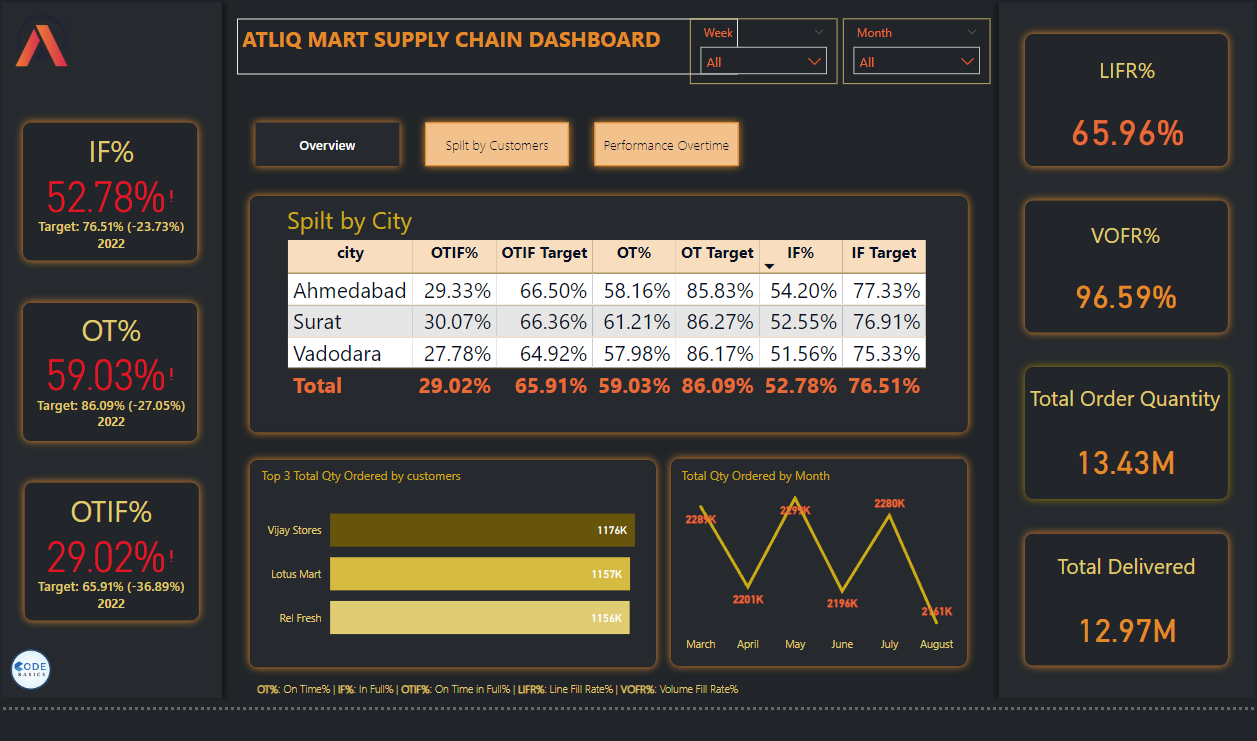

The dashboard page shown, as its layout file describes it:
{"tool":"powerbi","page":{"name":"Overview","canvas":[1280,720],"ordinal":0},"visuals":[{"type":"shape","box":[1004.6,0,275,720],"z":0},{"type":"shape","box":[0,0,238.8,720],"z":1000},{"type":"shape","box":[1032.4,537.7,220.7,149.5],"z":2000},{"type":"shape","box":[1031.2,369.6,220.7,149.5],"z":3000},{"type":"shape","box":[1031.2,201.6,220.7,149.5],"z":4000},{"type":"shape","box":[1032.4,33.6,220.7,149.5],"z":5000},{"type":"shape","box":[22.9,486,191.8,155.6],"z":6000},{"type":"shape","box":[21.8,304.3,191.8,156],"z":7000},{"type":"shape","box":[21.7,123,191.8,155.6],"z":8000},{"type":"shape","box":[249.6,463.1,425.7,225.5],"z":9000},{"type":"shape","box":[675.4,461.9,314.8,225.5],"z":10000},{"type":"shape","box":[249.6,196.6,740.5,254.5],"z":11000},{"type":"textbox","box":[244.8,25.3,505.3,56.7],"z":12000},{"type":"card","title":"LIFR%","fields":{"Values":["fact_order_lines.LIFR%"]},"box":[1043.2,61.5,197.8,121.8],"z":13000},{"type":"card","title":"VOFR%","fields":{"Values":["fact_order_lines.VOFR%"]},"box":[1042,229.1,197.8,121.8],"z":14000},{"type":"card","title":"Total Order Quantity","fields":{"Values":["fact_order_lines.Total Qty Ordered"]},"box":[1039.6,393.2,202.6,125.4],"z":15000},{"type":"card","title":"Total Delivered","fields":{"Values":["fact_order_lines.Total Qty Shipped"]},"box":[1040.8,563.2,202.6,125.4],"z":16000},{"type":"kpi","title":"IF%","fields":{"Indicator":["fact_orders_aggregate.IF%"],"Goal":["Avg(dim_targets_orders.IF Target)"],"TrendLine":["dim_date.date.Variation.Date Hierarchy.Year"]},"box":[27.7,138.7,182.1,125.4],"z":17000},{"type":"kpi","title":"OT%","fields":{"Goal":["Avg(dim_targets_orders.OT Target)"],"TrendLine":["dim_date.date.Variation.Date Hierarchy.Year"],"Indicator":["fact_orders_aggregate.OT%"]},"box":[26.5,319.6,182.1,125.4],"z":18000},{"type":"kpi","title":"OTIF%","fields":{"Goal":["Avg(dim_targets_orders.OTIF Target)"],"TrendLine":["dim_date.date.Variation.Date Hierarchy.Year"],"Indicator":["fact_orders_aggregate.OTIF%"]},"box":[27.7,501.7,182.1,125.4],"z":19000},{"type":"barChart","title":"Top 3 Total Qty Ordered by customers","fields":{"Category":["dim_customers.customer_name"],"Y":["fact_order_lines.Total Qty Ordered"]},"box":[265.3,478.8,393.2,193],"z":20000},{"type":"lineChart","fields":{"Category":["dim_date.date.Variation.Date Hierarchy.Month"],"Y":["fact_order_lines.Total Qty Ordered"]},"box":[688.6,477.6,288.2,195.4],"z":21000},{"type":"tableEx","title":"Spilt by City","fields":{"Values":["dim_customers.city","fact_orders_aggregate.OTIF%","Avg(dim_targets_orders.OTIF Target)","fact_orders_aggregate.OT%","Avg(dim_targets_orders.OT Target)","fact_orders_aggregate.IF%","Avg(dim_targets_orders.IF Target)"]},"box":[290.7,212.3,657.3,225.5],"z":22000},{"type":"textbox","box":[260.5,685,645.2,35],"z":23000},{"type":"slicer","fields":{"Values":["dim_date.date.Variation.Date Hierarchy.Month"]},"box":[856.3,25.4,148.3,66.3],"z":24000},{"type":"slicer","fields":{"Values":["dim_date.week_no"]},"box":[701.9,25.3,148.3,66.3],"z":25000},{"type":"image","box":[14.9,14.9,66.8,64.4],"z":26000},{"type":"image","box":[9.6,654.9,55.5,54.3],"z":27000},{"type":"pageNavigator","box":[256.2,122.6,503.8,60.7],"z":28000}]}

Visuals, with their boxes on the page's 1280x720 design canvas (x1, y1, x2, y2). These are canvas units, not pixel positions in the 1257x741 screenshot, which may show the page scaled, cropped or inside an application window:
shape: locate(1005, 0, 1280, 720)
shape: locate(0, 0, 239, 720)
shape: locate(1032, 538, 1253, 687)
shape: locate(1031, 370, 1252, 519)
shape: locate(1031, 202, 1252, 351)
shape: locate(1032, 34, 1253, 183)
shape: locate(23, 486, 215, 642)
shape: locate(22, 304, 214, 460)
shape: locate(22, 123, 214, 279)
shape: locate(250, 463, 675, 689)
shape: locate(675, 462, 990, 687)
shape: locate(250, 197, 990, 451)
textbox: locate(245, 25, 750, 82)
"LIFR%" card: locate(1043, 62, 1241, 183)
"VOFR%" card: locate(1042, 229, 1240, 351)
"Total Order Quantity" card: locate(1040, 393, 1242, 519)
"Total Delivered" card: locate(1041, 563, 1243, 689)
"IF%" kpi: locate(28, 139, 210, 264)
"OT%" kpi: locate(26, 320, 209, 445)
"OTIF%" kpi: locate(28, 502, 210, 627)
"Top 3 Total Qty Ordered by customers" barChart: locate(265, 479, 658, 672)
lineChart - dim_date.date.Variation.Date Hierarchy.Month x fact_order_lines.Total Qty Ordered: locate(689, 478, 977, 673)
"Spilt by City" tableEx: locate(291, 212, 948, 438)
textbox: locate(260, 685, 906, 720)
slicer - dim_date.date.Variation.Date Hierarchy.Month: locate(856, 25, 1005, 92)
slicer - dim_date.week_no: locate(702, 25, 850, 92)
image: locate(15, 15, 82, 79)
image: locate(10, 655, 65, 709)
pageNavigator: locate(256, 123, 760, 183)
